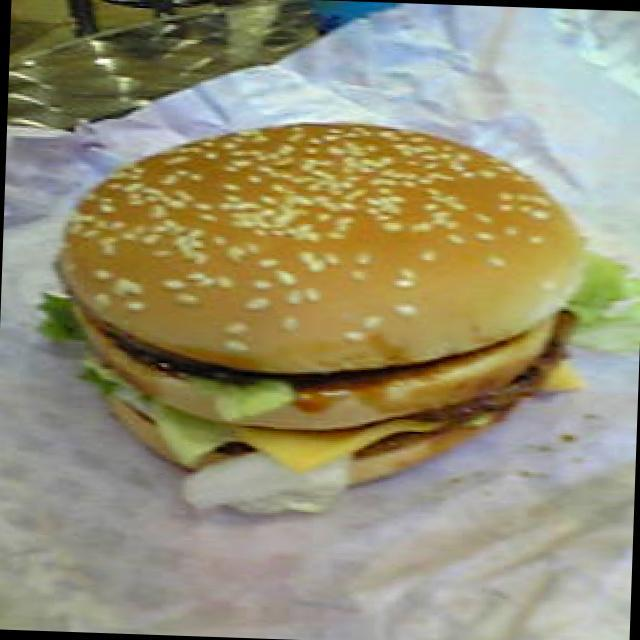Hamburger: (14, 98, 598, 530)
